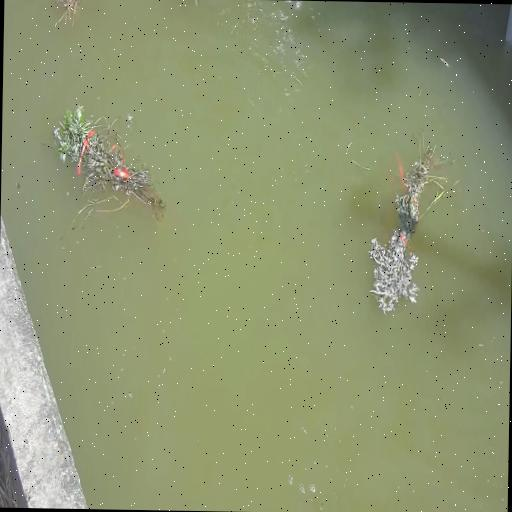twig: (366, 130, 457, 312), (48, 104, 168, 235), (54, 0, 84, 29)
